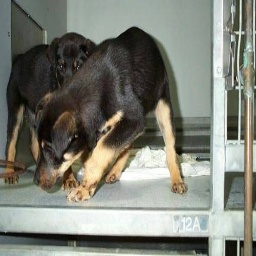dog: (0, 24, 189, 205)
